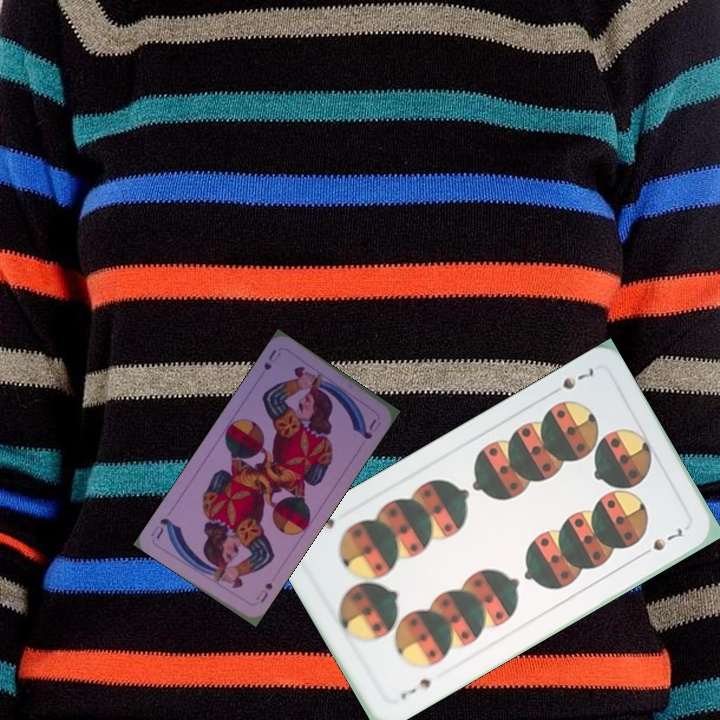S7: (545, 364, 597, 399), (396, 674, 434, 703)
SU: (260, 345, 284, 373), (256, 578, 275, 606)
